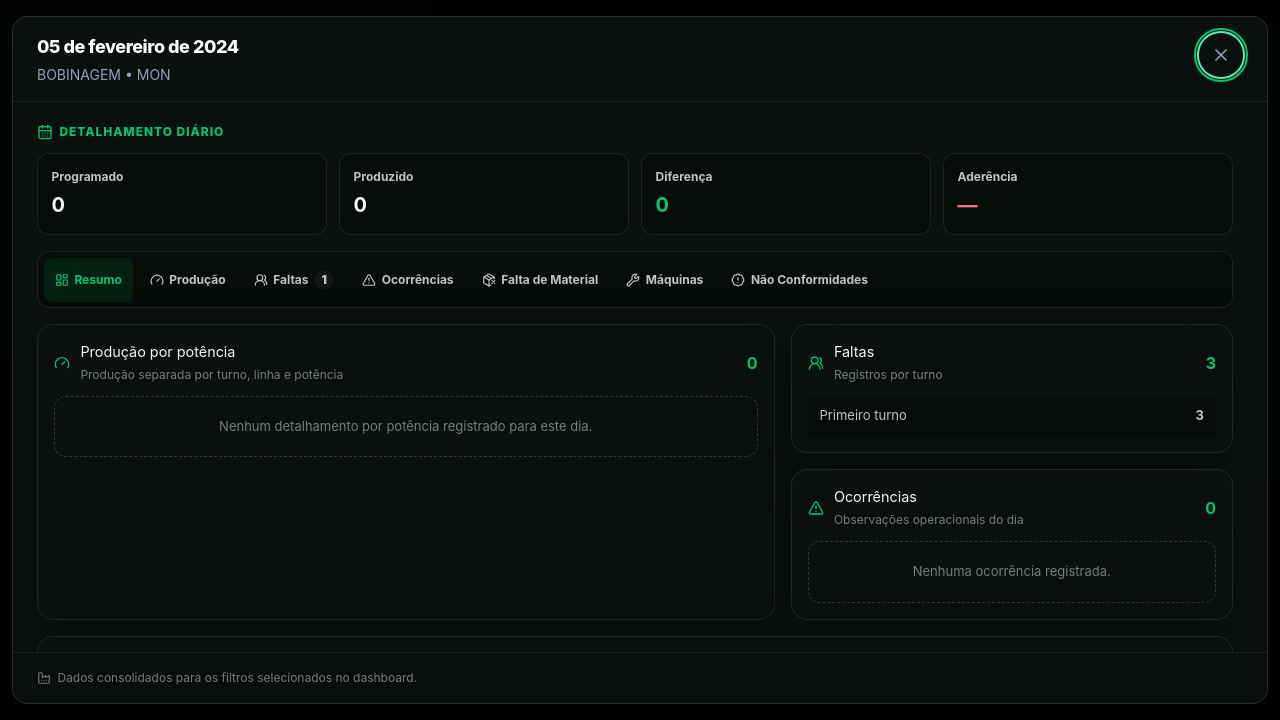
Test: DayDetailModal › mantém o resumo legado de faltas quando não há registros individuais
Expected: the text "—" is shown, [958,193,978,217]
Click the tab "Faltas 1". click: [294, 280]
box: [242,258,345,302]
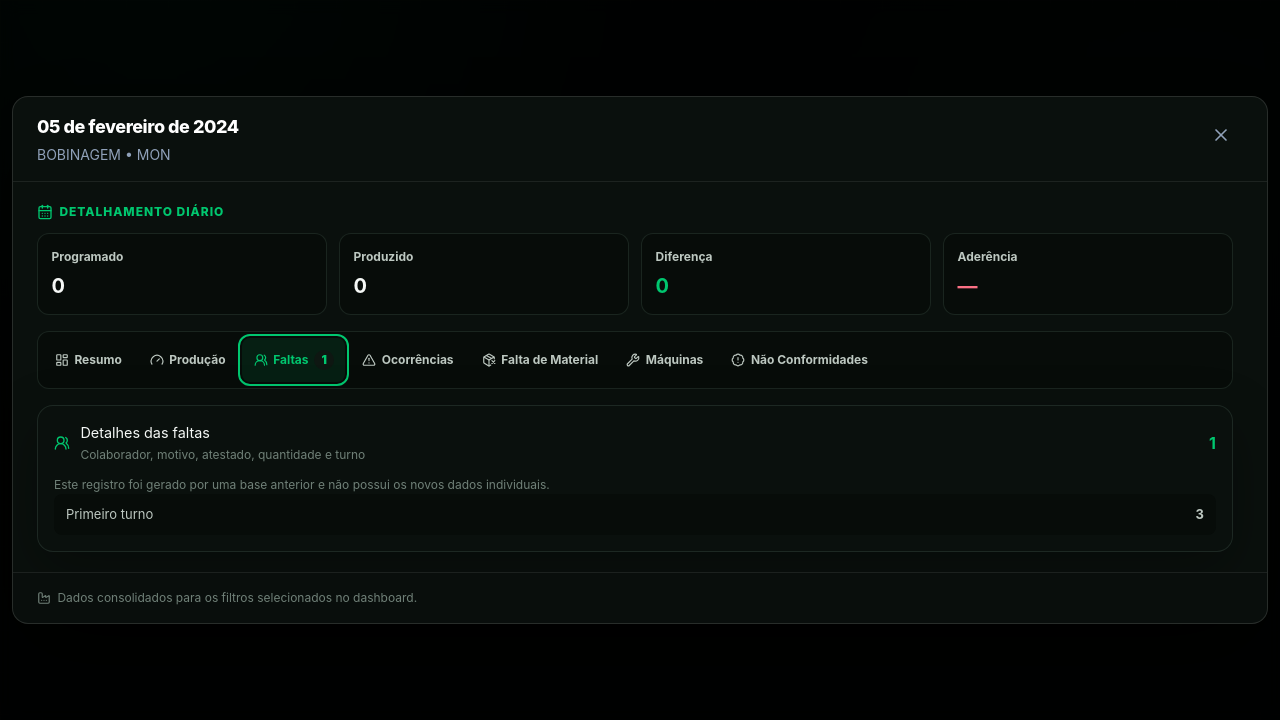
Expected: the text "Primeiro turno" is shown, [66,505,153,524]
Result: the text "gerado por uma base anterior" is shown at [54,477,550,492]
